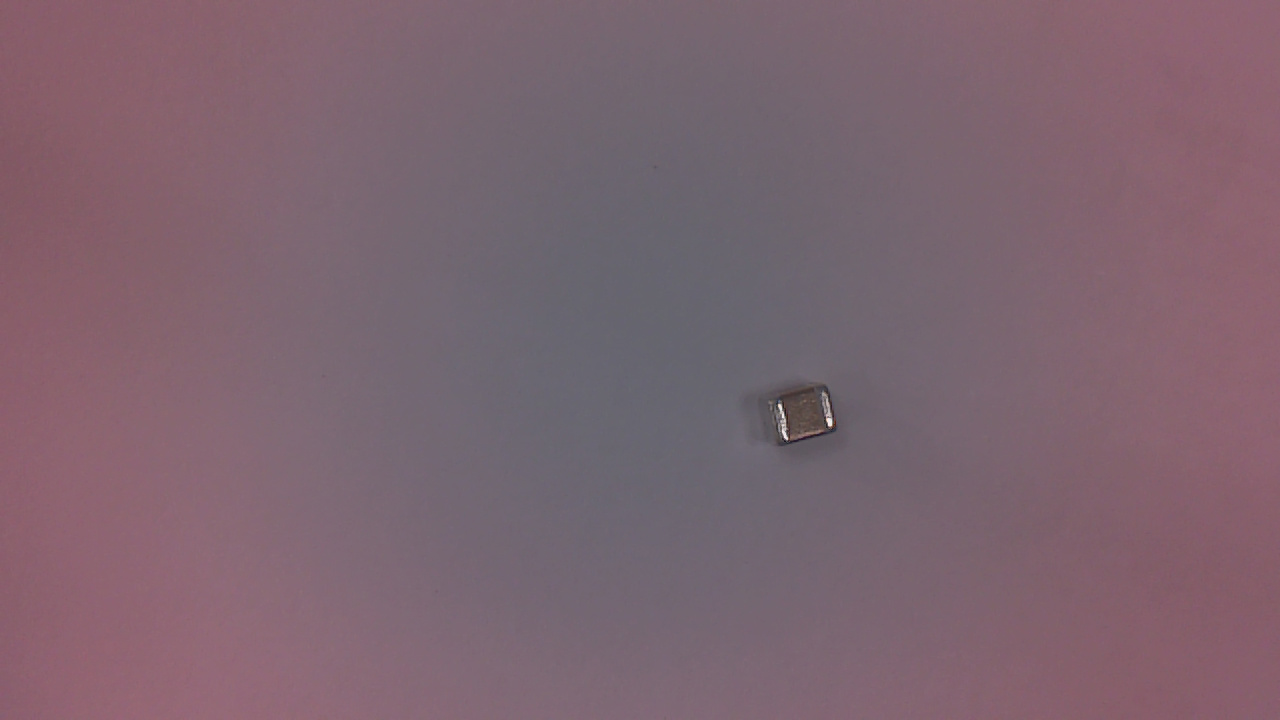Condensator: (767, 389, 845, 452)
